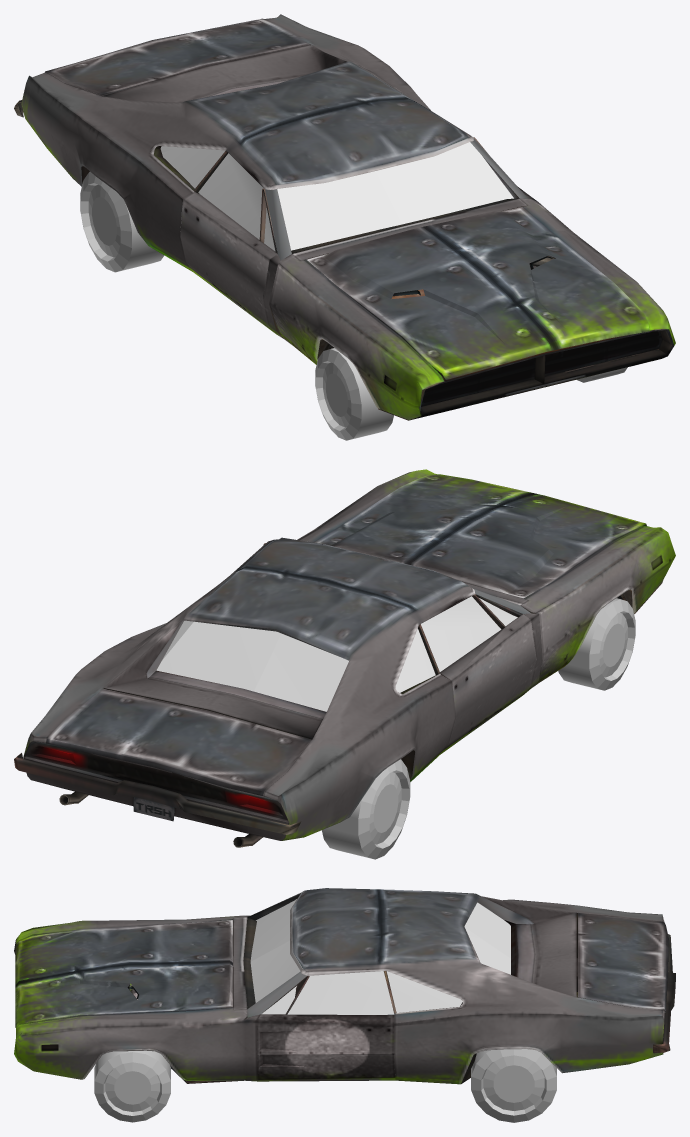
Rendered from hemi fox.FBX.
The picture shows the model from 3 angles, top to bottom: view 1: azimuth 30°, elevation 25°; view 2: azimuth 150°, elevation 25°; view 3: azimuth 270°, elevation 25°; orthographic projection. The views are drawn at different scales.
Visible parts, largest first — view 1: Car_Body, Line001, RB_Wheel, RF_Wheel; view 2: Car_Body, Line001, RB_Wheel, RF_Wheel; view 3: Car_Body, Line001, LB_Wheel, LF_Wheel.
Boxes of the visible parts, <box> form: Car_Body: <box>14,14,675,420</box>; Line001: <box>160,142,513,251</box>; RB_Wheel: <box>80,171,164,272</box>; RF_Wheel: <box>315,348,393,440</box>; Car_Body: <box>14,469,675,847</box>; Line001: <box>156,596,517,711</box>; RB_Wheel: <box>322,759,410,859</box>; RF_Wheel: <box>558,598,635,690</box>; Car_Body: <box>14,888,675,1084</box>; Line001: <box>250,900,510,1014</box>; LB_Wheel: <box>471,1049,556,1122</box>; LF_Wheel: <box>94,1050,170,1122</box>.
Size of the model in its own units: 108 by 61.2 by 242.
